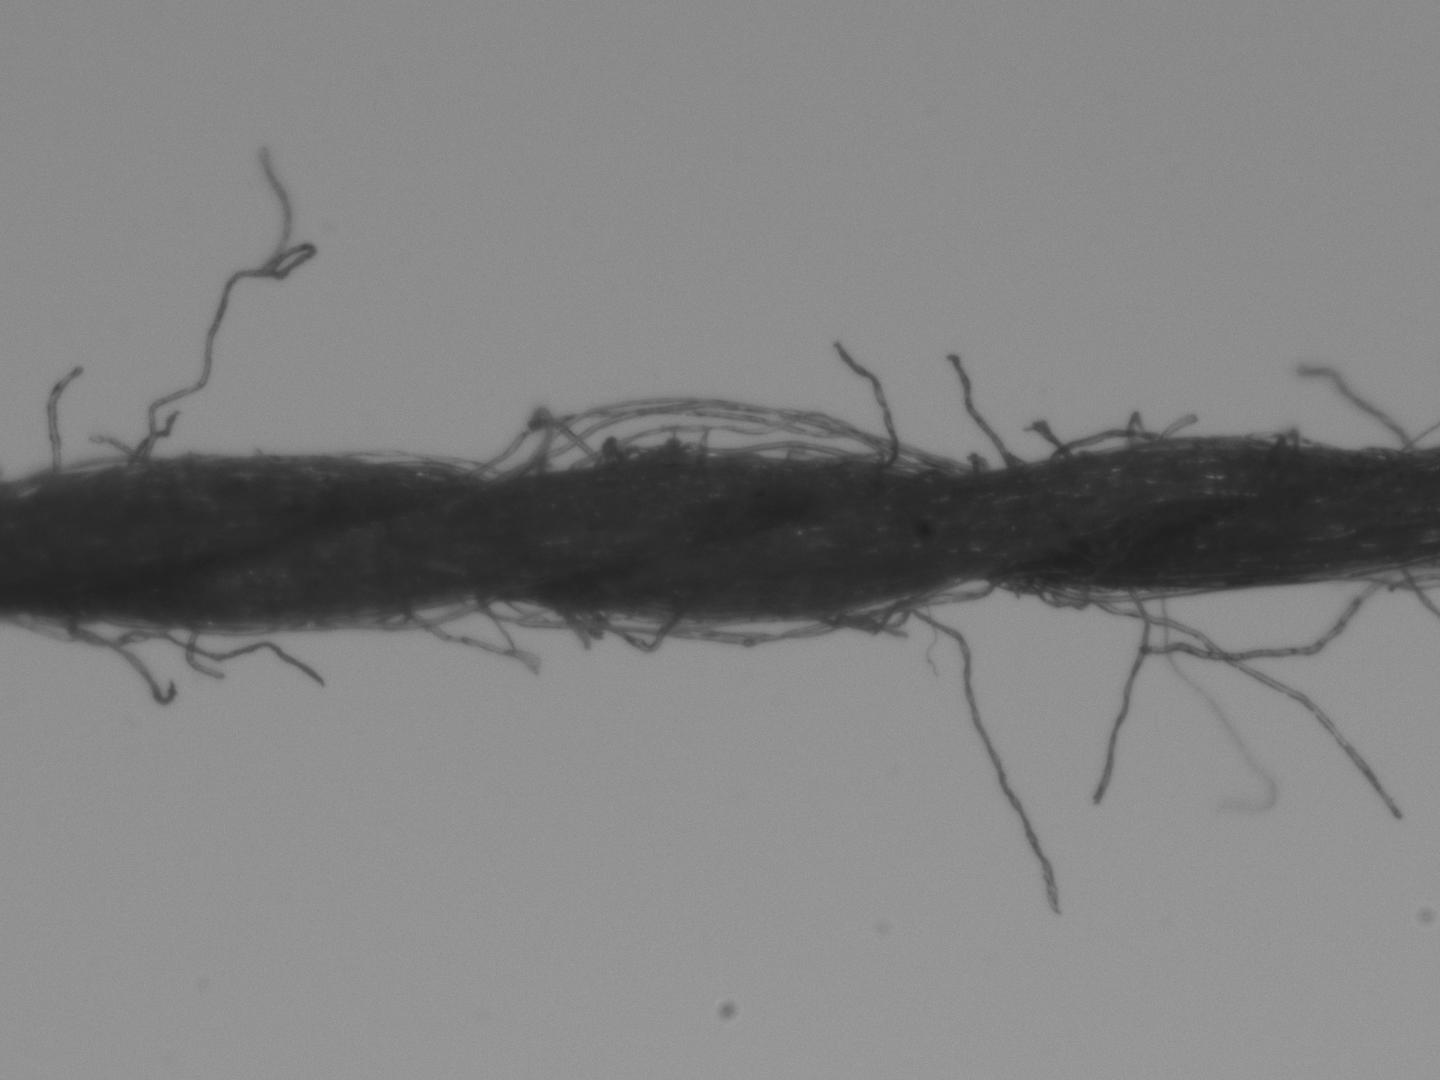loop_fiber: (522, 395, 946, 471), (819, 575, 999, 632), (353, 594, 495, 630), (345, 445, 483, 476), (584, 607, 679, 650), (1045, 425, 1169, 456), (1030, 579, 1100, 609), (1353, 442, 1412, 462)
protruding_fiber: (898, 604, 1065, 911), (1089, 593, 1152, 803), (840, 344, 898, 478), (950, 355, 1016, 466), (44, 366, 86, 473)
